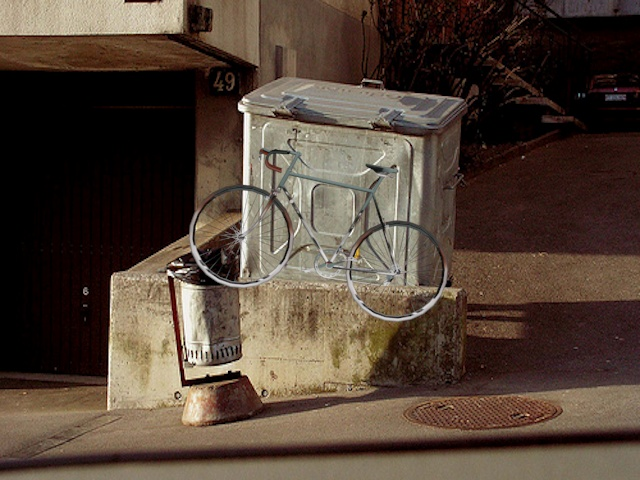bike: (177, 144, 456, 328)
